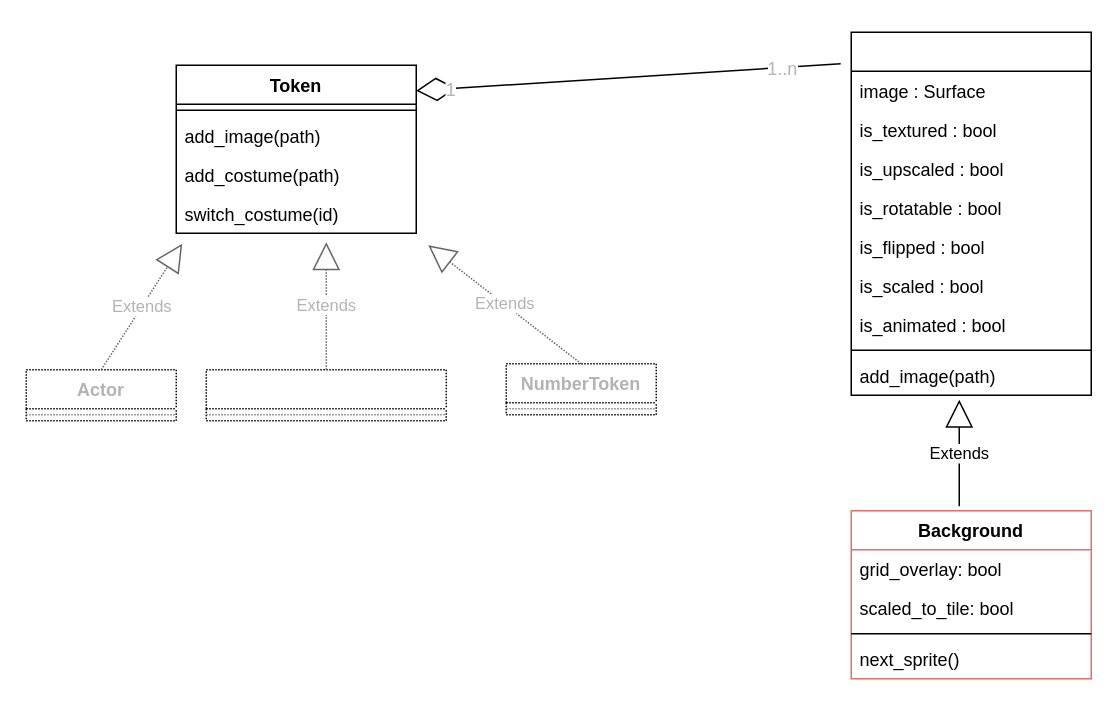
Image size: 1118x710. Some labels were removed from this diagram. Each missing label, with the box of its shape:
Appearance: (850, 31, 1091, 395)
TextToken: (205, 368, 446, 421)
